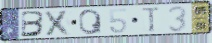3: (167, 4, 189, 34)
5: (108, 8, 128, 34)
B: (20, 10, 47, 38)
Q: (78, 8, 103, 36)
T: (141, 6, 162, 33)
X: (43, 9, 74, 37)
